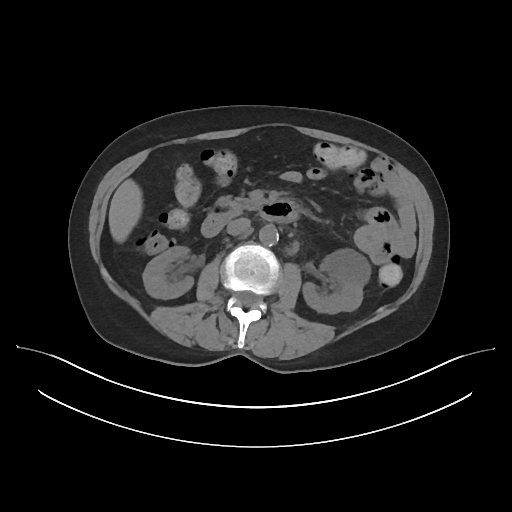Lesion: (316, 246, 372, 292)
